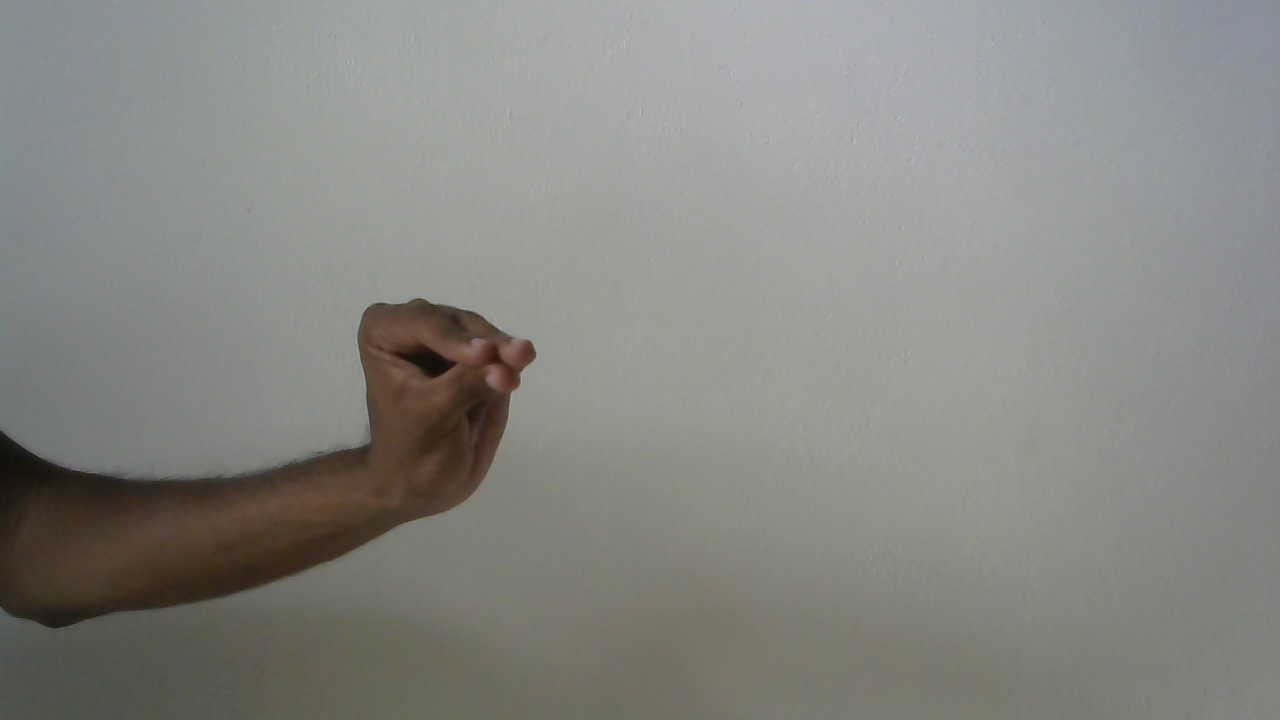no: (340, 280, 556, 530)
